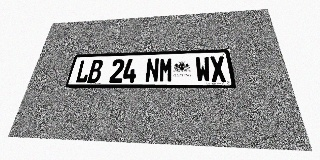2: (109, 59, 125, 83)
4: (122, 58, 138, 83)
B: (87, 59, 104, 83)
L: (74, 60, 92, 83)
M: (159, 57, 173, 82)
N: (145, 58, 159, 83)
W: (195, 56, 211, 82)
X: (209, 56, 227, 82)
